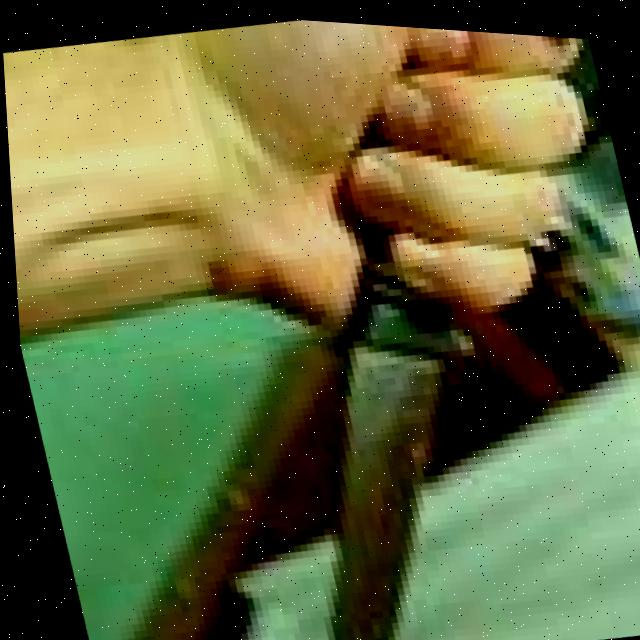knife: (225, 203, 537, 640)
